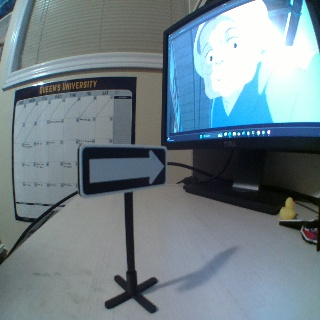sign_oneway_right: (78, 141, 166, 189)
